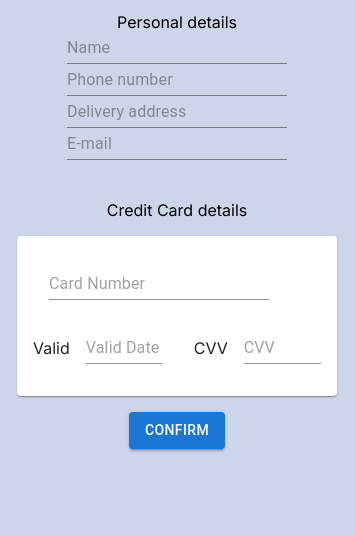
Register component › if fields are filled wrong 4*Error should appear
Step 1. Click the button → point(177, 430), box [129, 412, 225, 448]
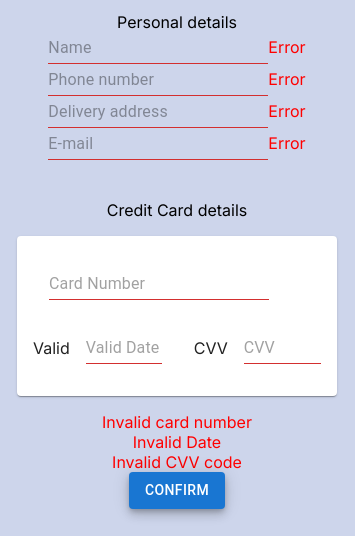
Result: the text "Error" is shown 4 times at [268, 37, 306, 57]; [268, 69, 306, 89]; [268, 101, 306, 121]; [268, 133, 306, 153]
